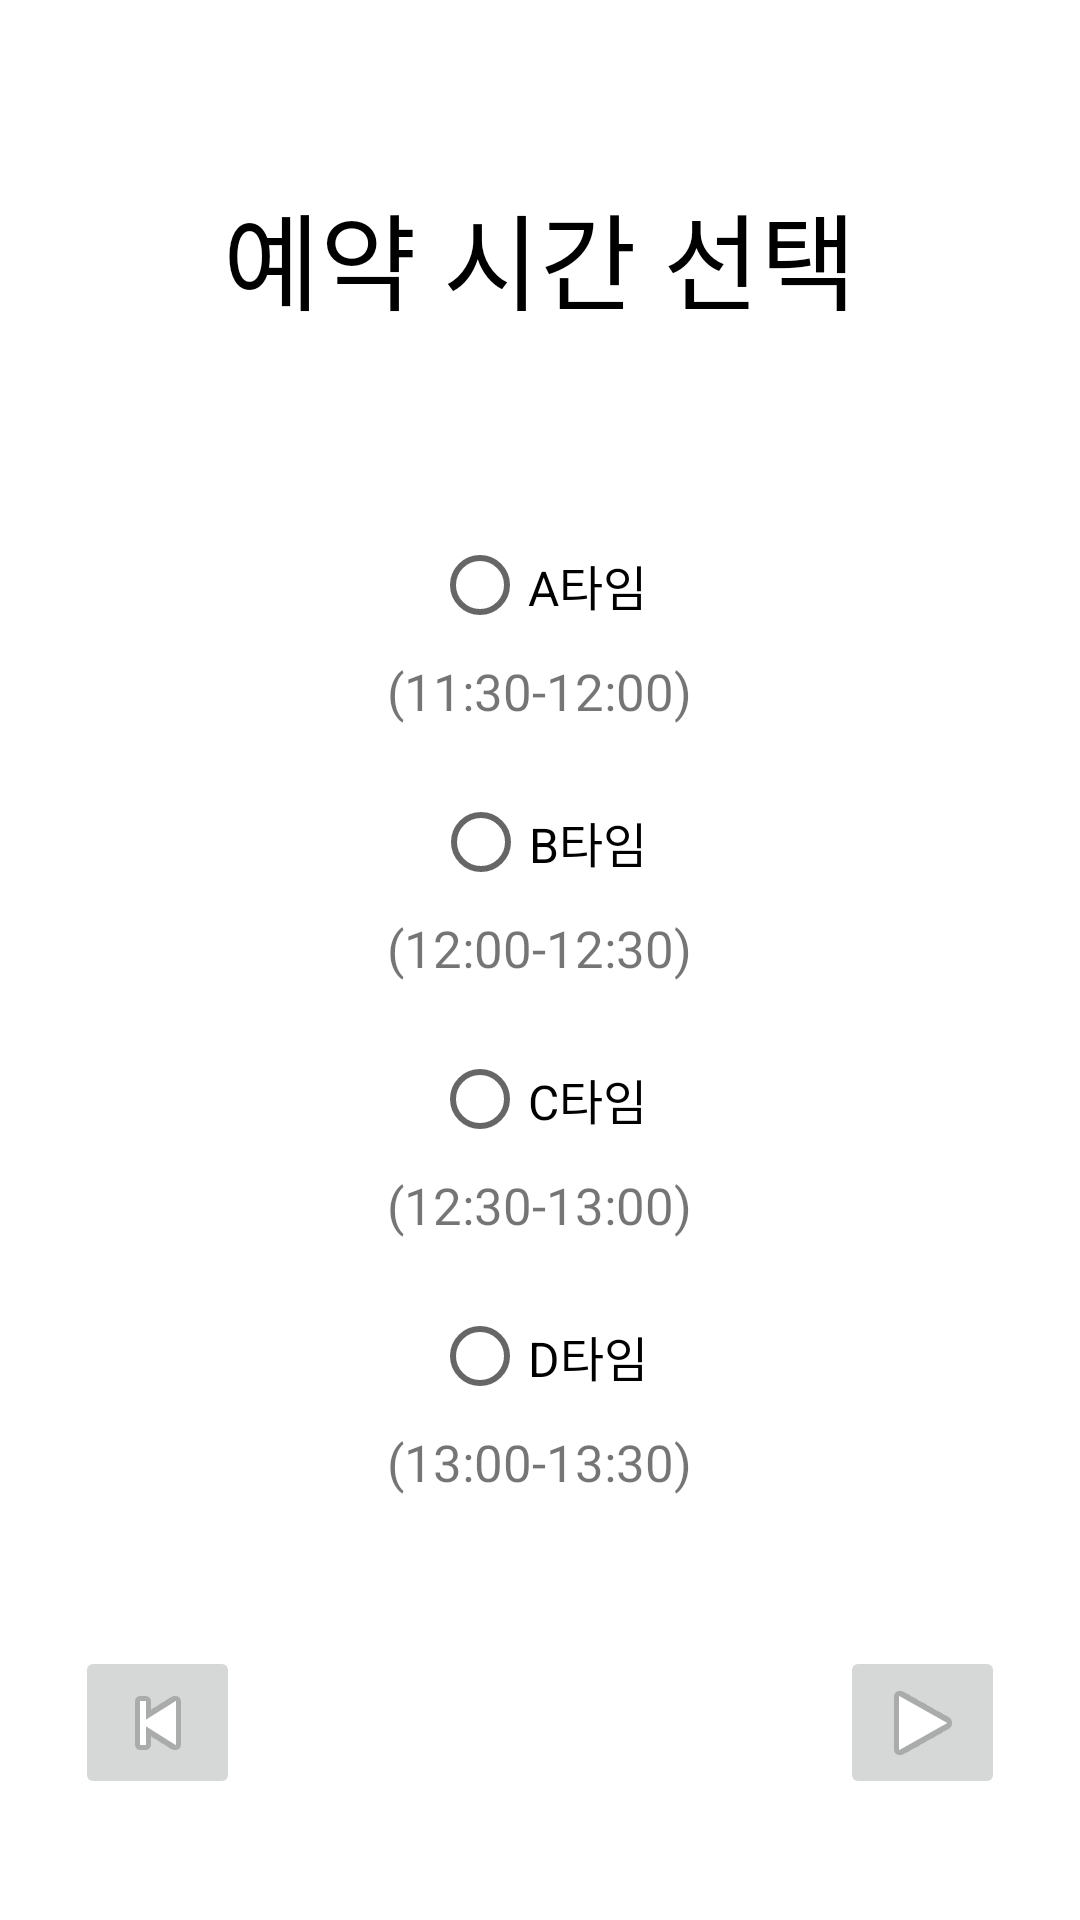

Screen size 1080×1920. Icon name, then its box in pixels as (x1, y1, x2, y2):
play: (852, 1664, 993, 1781)
previous: (87, 1664, 228, 1781)
